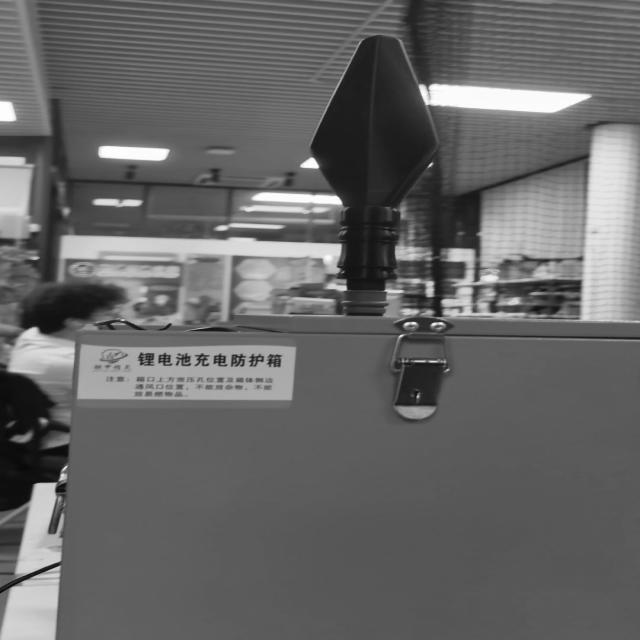base: (343, 288, 389, 318)
